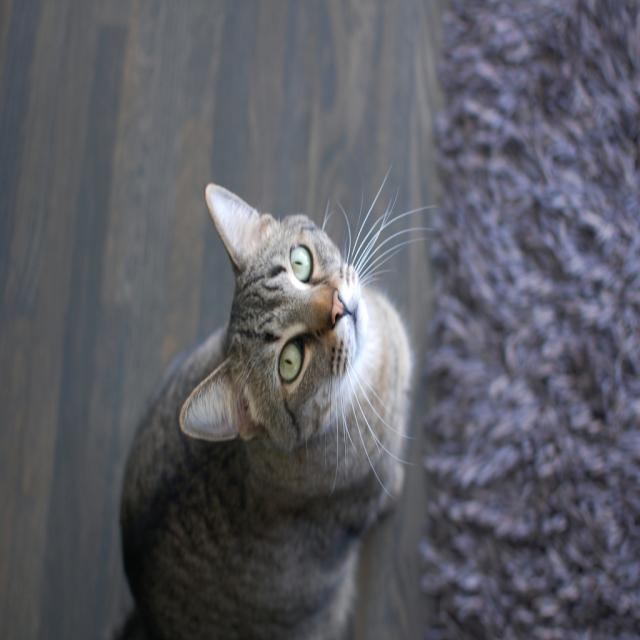Cat: (118, 156, 440, 638)
